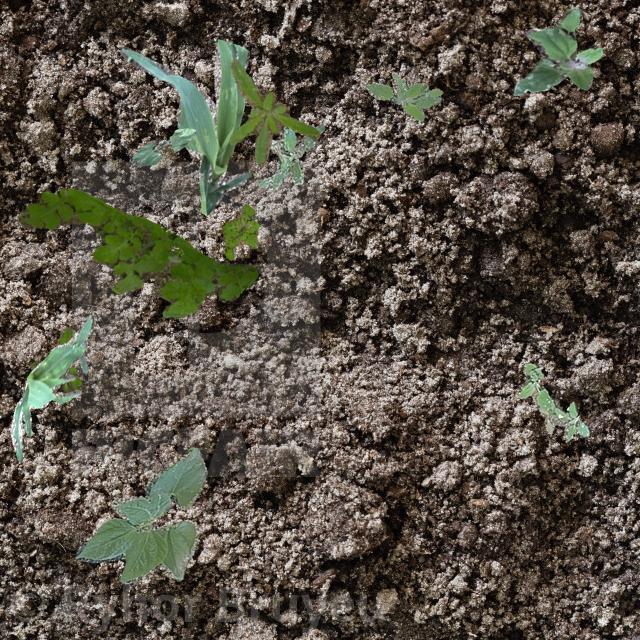crop: (120, 38, 248, 214), (74, 446, 206, 584), (9, 314, 92, 459), (130, 128, 196, 166)
weed: (17, 186, 256, 316), (228, 59, 318, 164), (512, 5, 602, 96), (516, 362, 588, 439), (256, 124, 324, 190), (362, 70, 442, 120), (30, 326, 80, 392), (220, 203, 260, 260)
